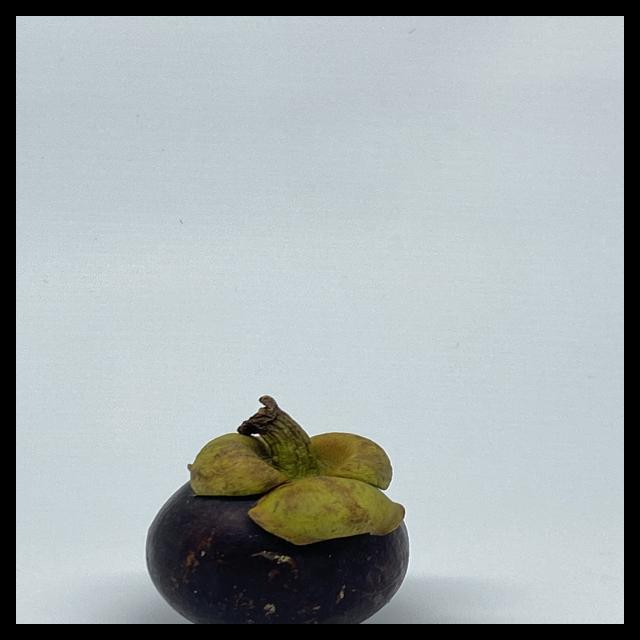mangosteen: (130, 393, 428, 624)
